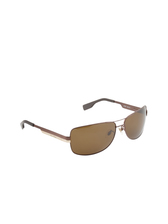glasses: (21, 97, 153, 158)
